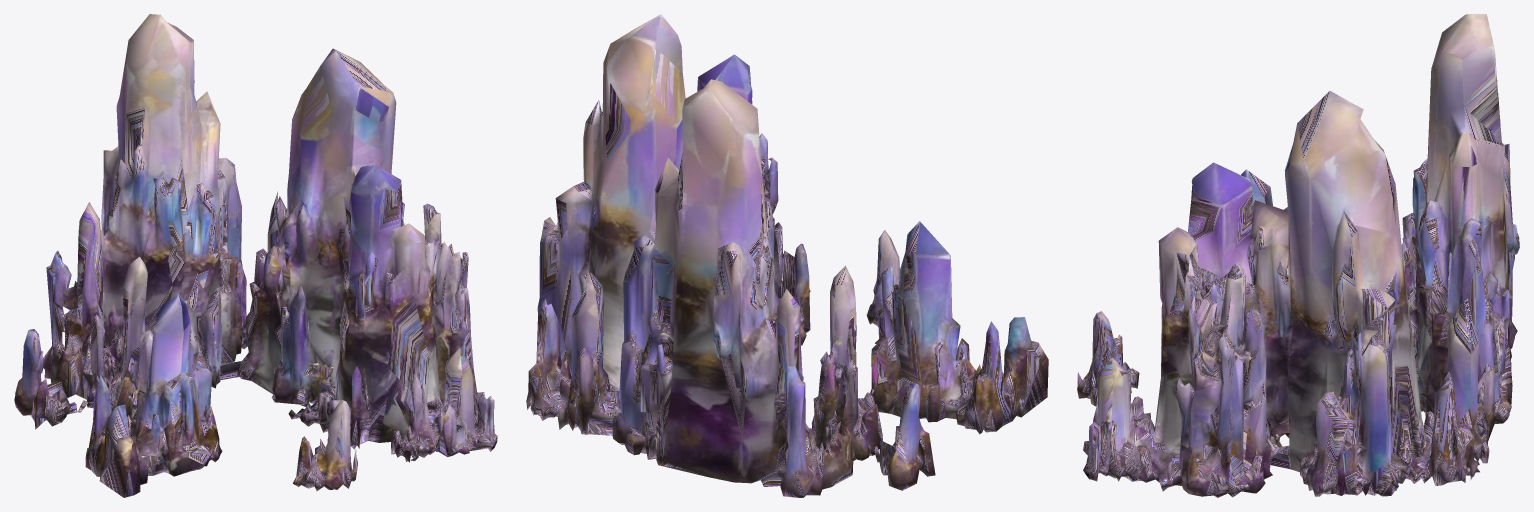
File: Crystal_Peaks_PBR.glb
3 views of the same model, side by side, from view 1: azimuth 30°, elevation 25°; view 2: azimuth 150°, elevation 25°; view 3: azimuth 270°, elevation 25° (orthographic). The views are drawn at different scales.
Visible parts, largest first — view 1: Crystal_Peaks_PBR; view 2: Crystal_Peaks_PBR; view 3: Crystal_Peaks_PBR.
Boxes of the visible parts, bbox=[...] form: Crystal_Peaks_PBR: bbox=[14, 14, 497, 497]; Crystal_Peaks_PBR: bbox=[526, 14, 1048, 497]; Crystal_Peaks_PBR: bbox=[1077, 14, 1519, 497].
Size of the model in its own units: 1.99 by 1.8 by 1.88.
1 material, 1 textured.
